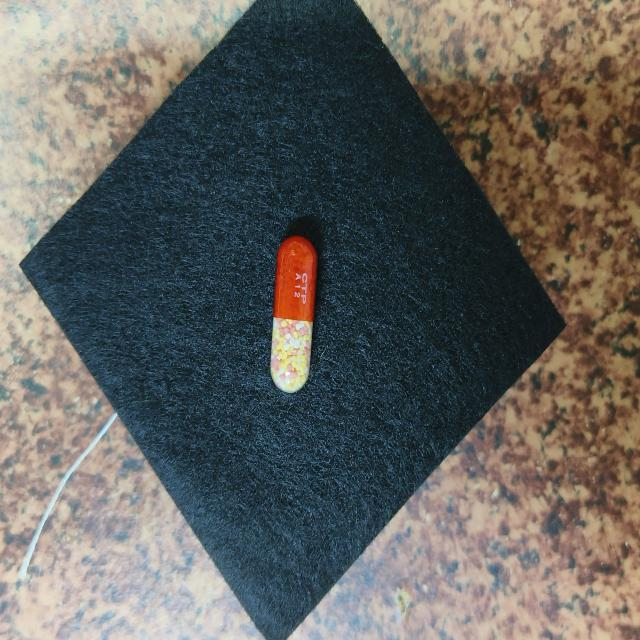Intact Capsule: (270, 235, 317, 393)
